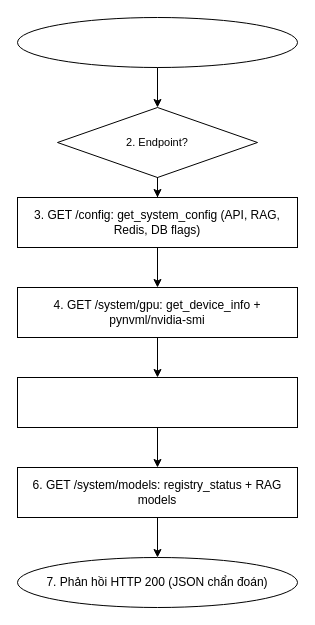
Image size: 315x625. Some labels were removed from this diagram. Here are the shapes that lost their labels. From the top down, the centre of each, then its label:
the point at 157,42: 1. Người dùng: /config | /system/*
the point at 157,402: 5. GET /system/node: hostname, CPU/RAM, inference_state
